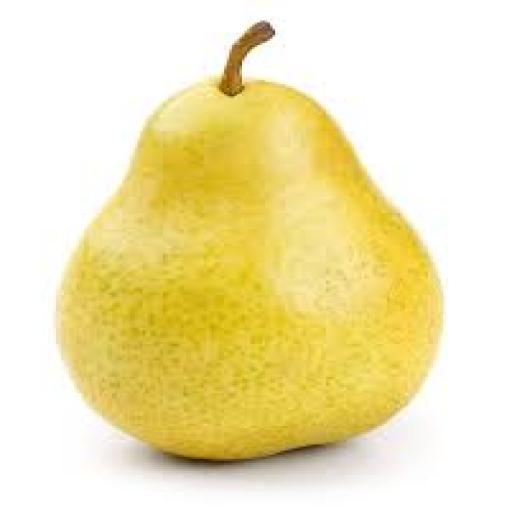pear: (55, 15, 458, 471)
